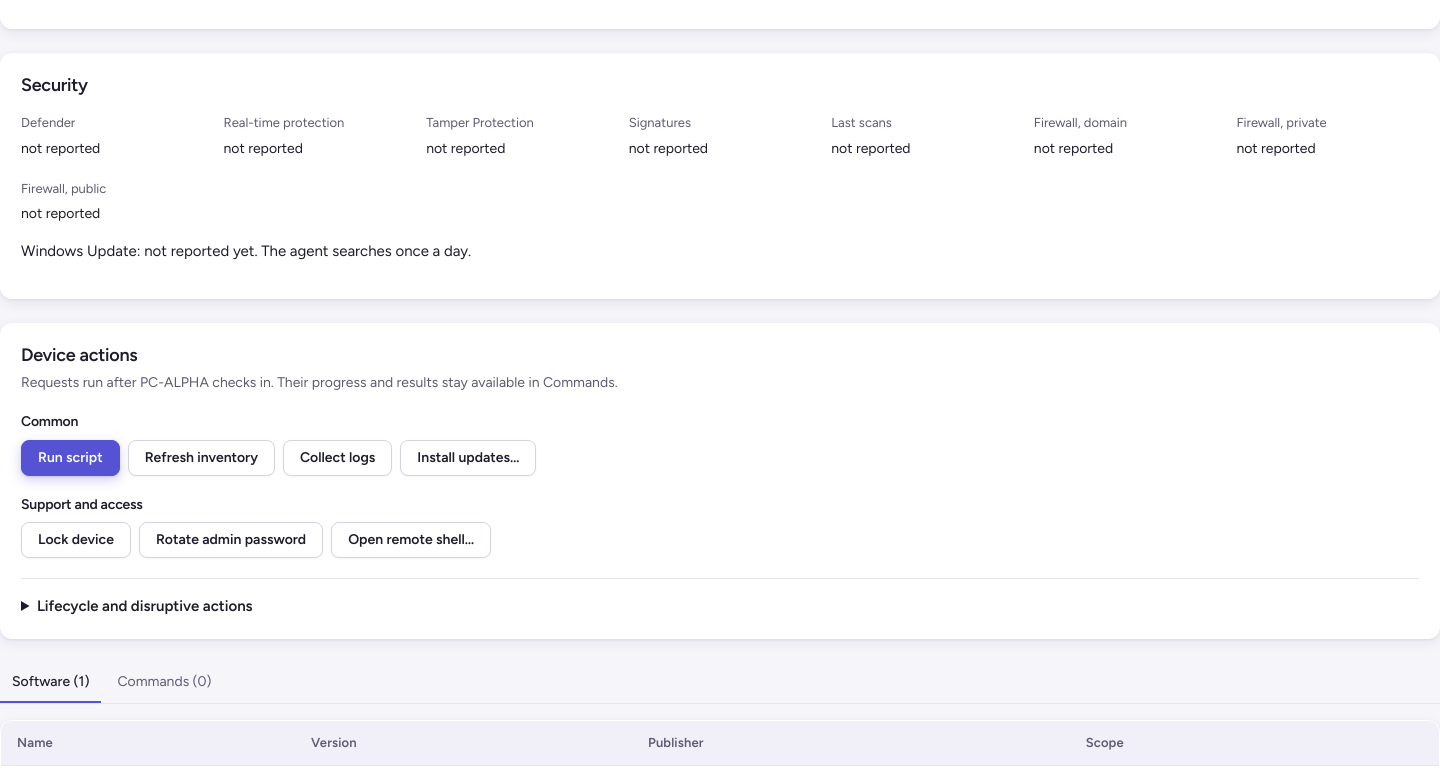
Test: DeviceDetail › confirms a restart and shows a durable command receipt
(page scrolled)
Click the heading "Lifecycle and disruptive actions".
click(137, 606)  # box [21, 595, 253, 618]
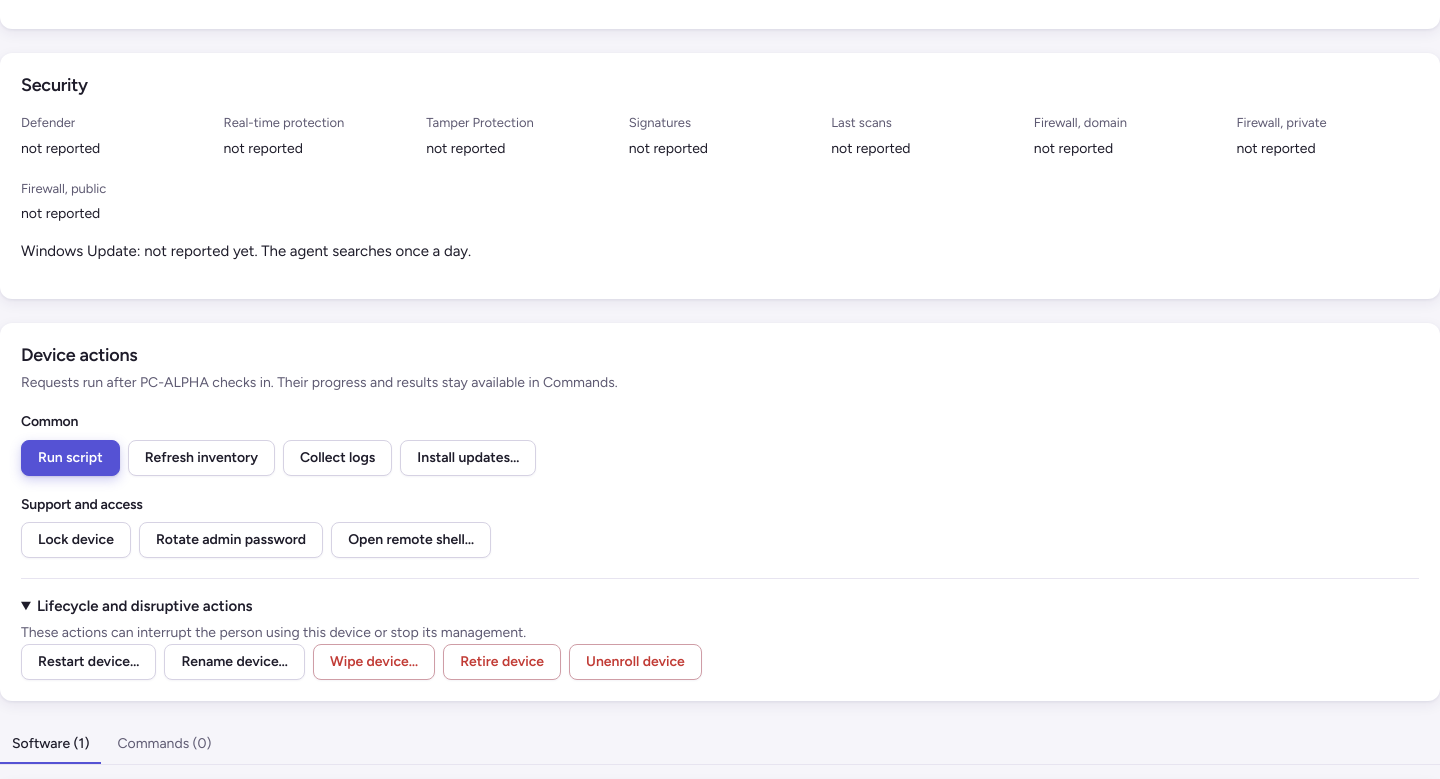
Click the button "Restart device…".
click(89, 662)  # box [21, 644, 156, 680]
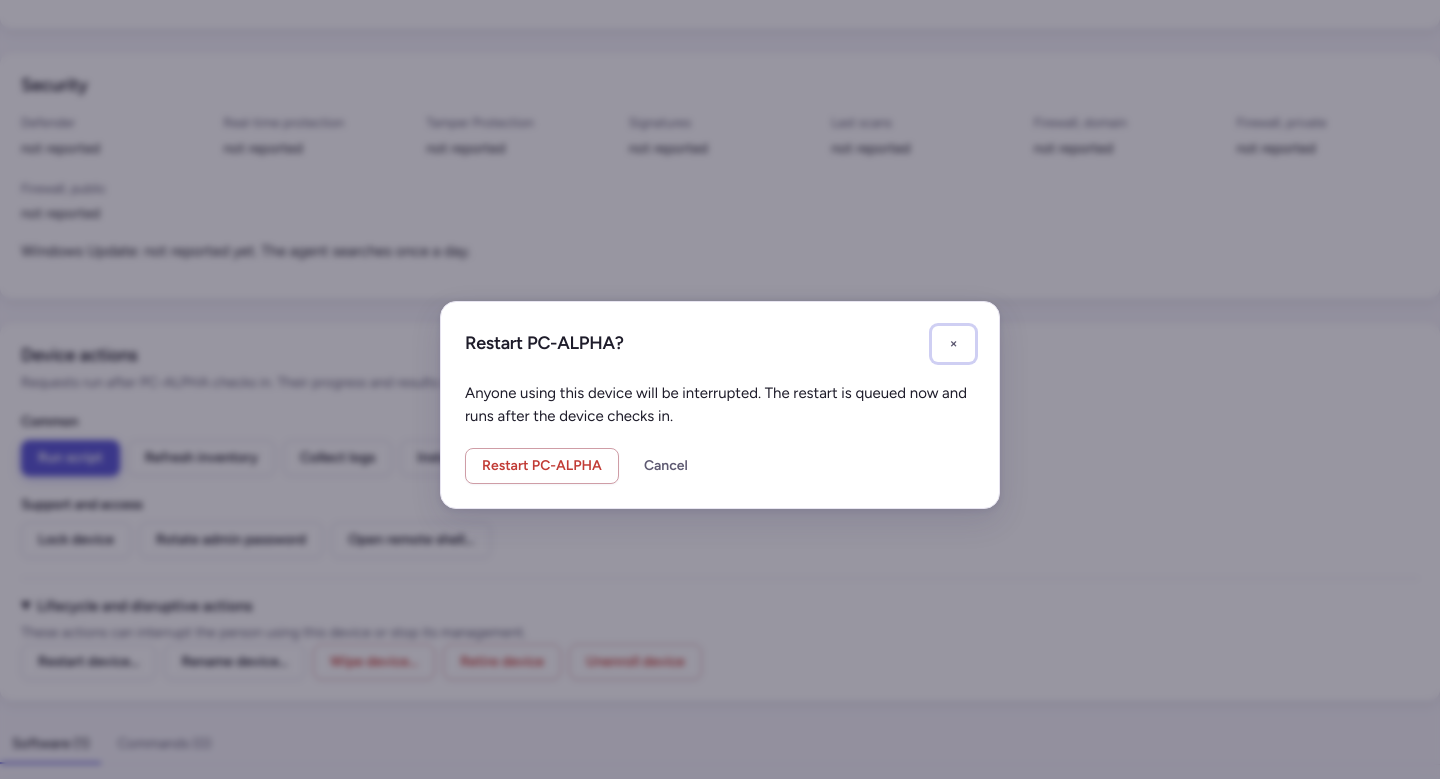
Result: the dialog "Restart PC-ALPHA?" is shown at [440, 301, 1000, 509]
Click the button "Restart PC-ALPHA".
click(542, 466)  # box [465, 448, 619, 484]
(page scrolled)
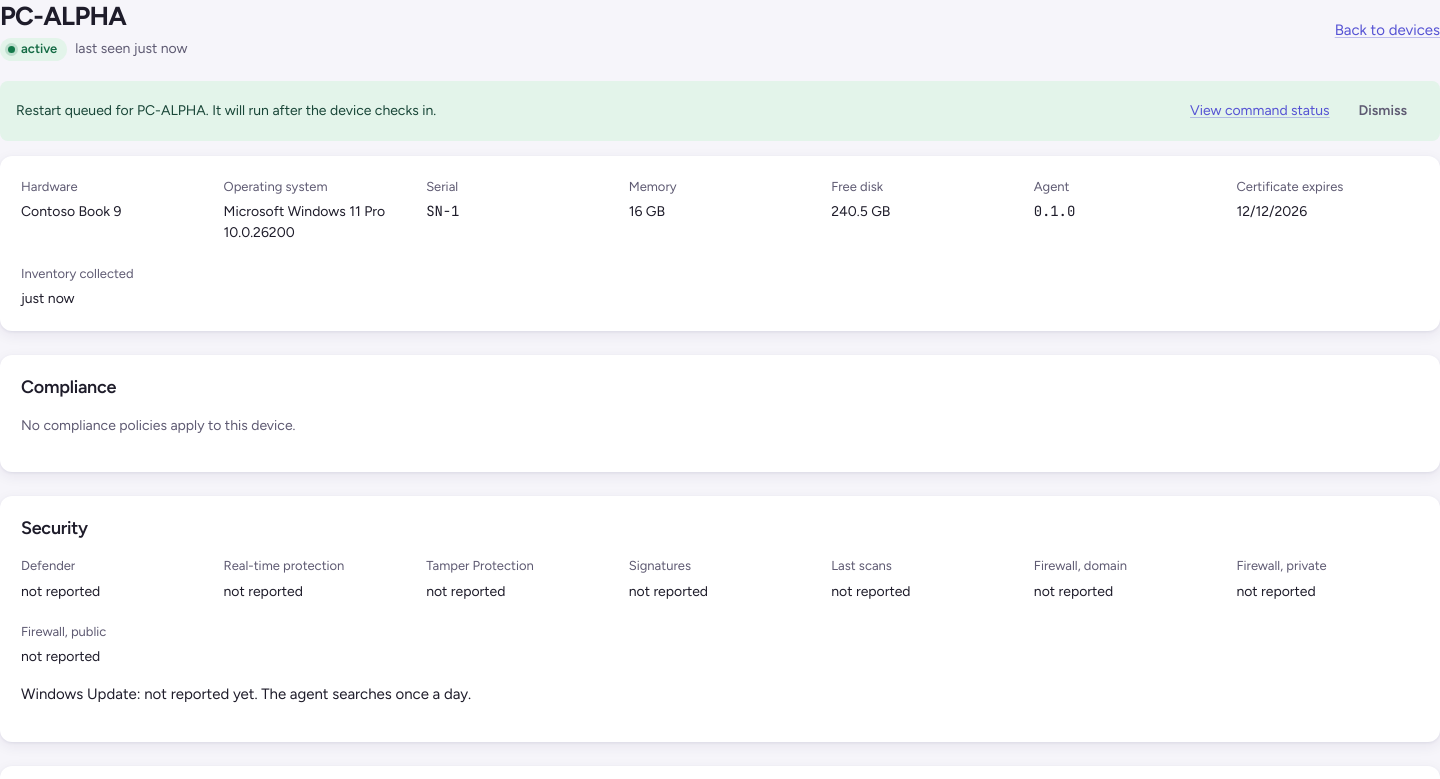
Result: the text "Restart queued for PC-ALPHA" is shown at [16, 102, 209, 119]
